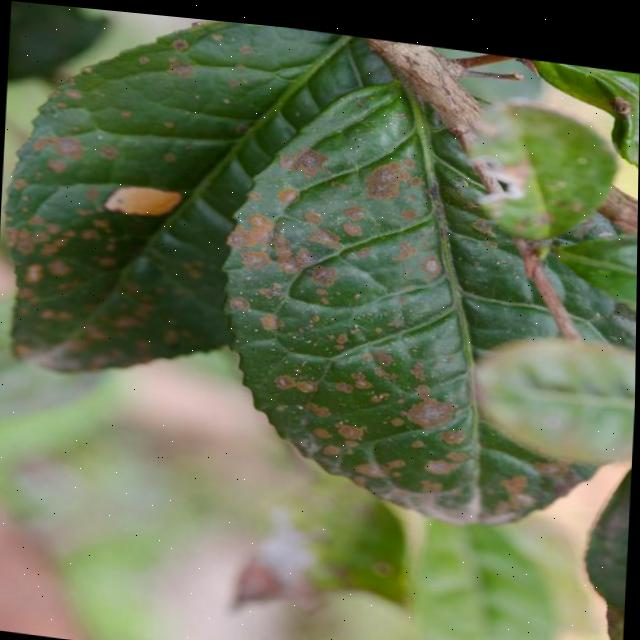Tea algae leaf spot: (232, 107, 518, 500), (7, 16, 201, 393)
